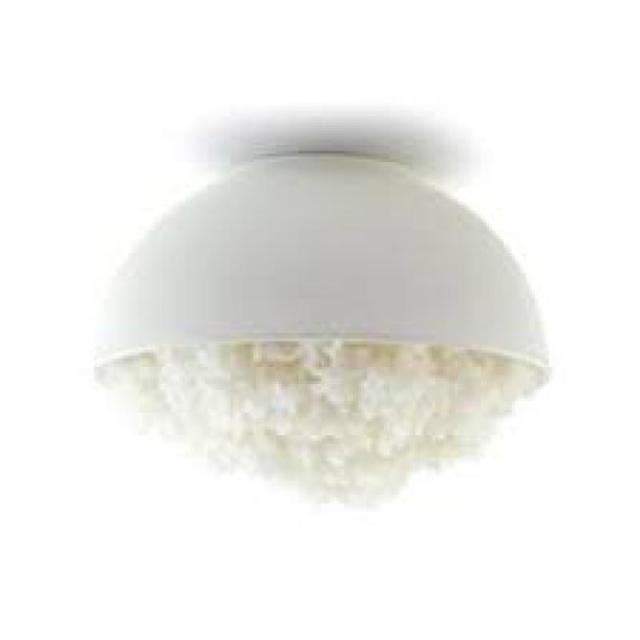nasi_putih: (110, 340, 534, 512)
